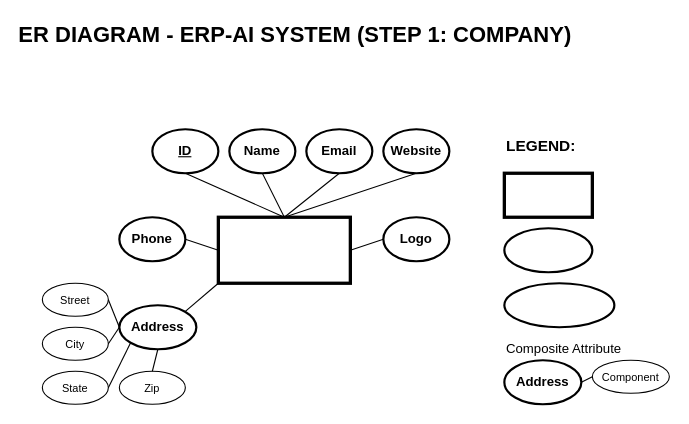
This 689x424 diagram has some shape labels left out. Each missing label, with the centre of its shape:
Attribute: the point at 548,250
COMPANY: the point at 283,249
Entity: the point at 547,194
Key Attribute: the point at 559,305
